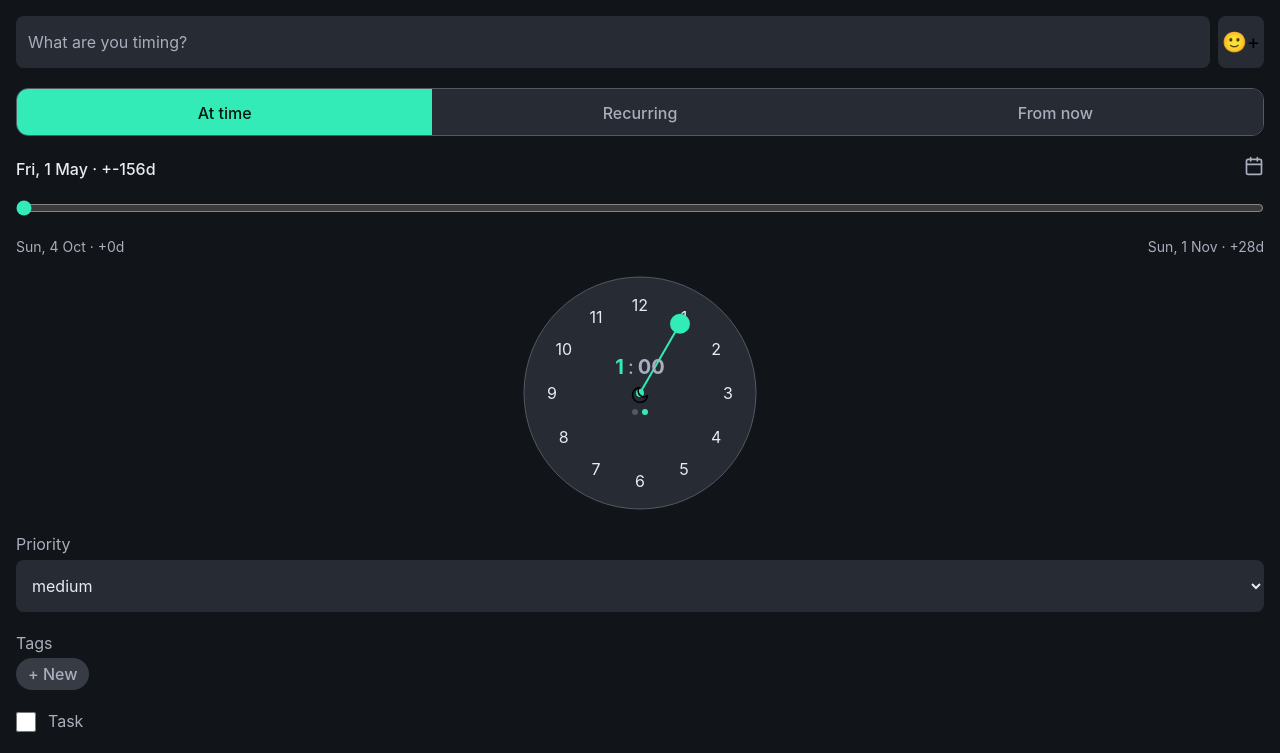
Test case: CreateTimerView — Recurring mode › clicking Recurring tab shows Schedule picker directly (no OptionalField)
Click the button "Recurring" at (640, 112), box top-left (432, 89), bottom-right (848, 135)
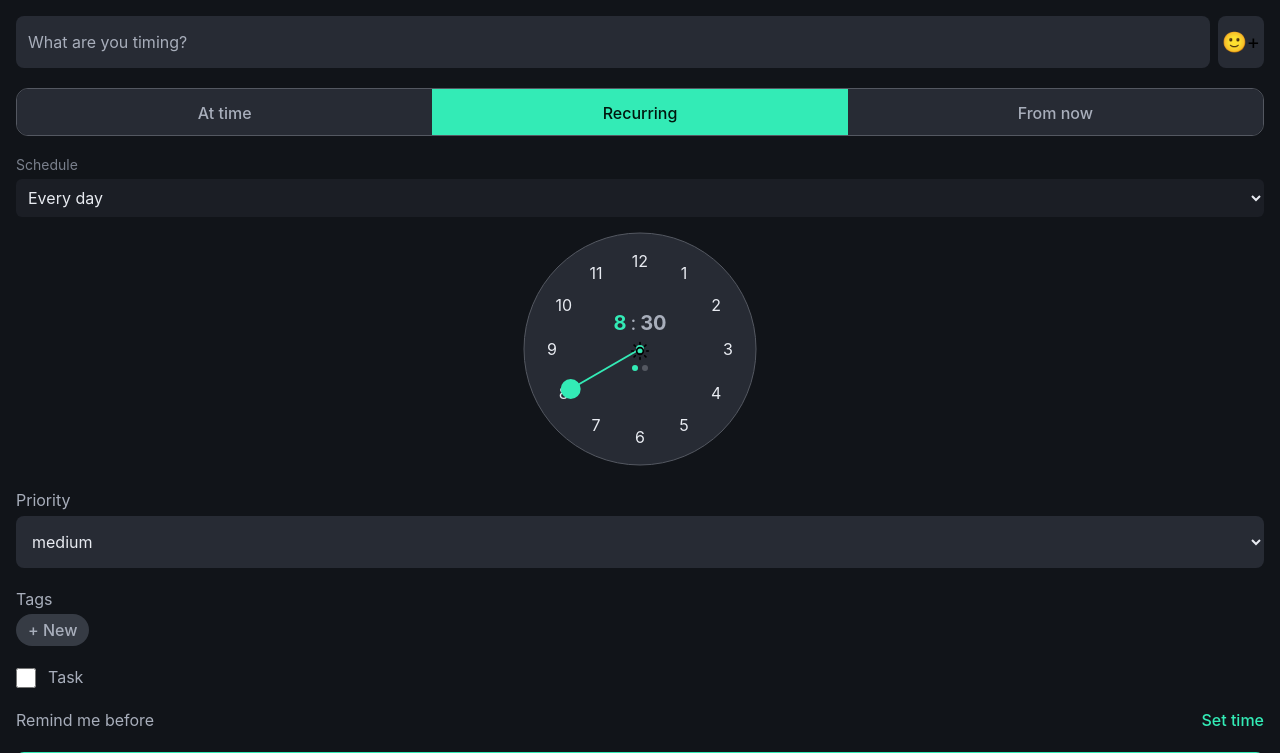
Now the dropdown named "schedule" is shown, box top-left (16, 179), bottom-right (1264, 217)
